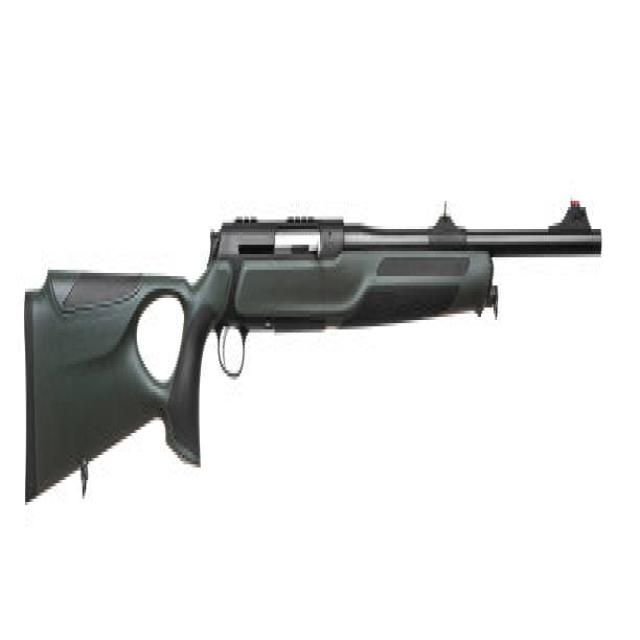rifle: (16, 195, 608, 509)
